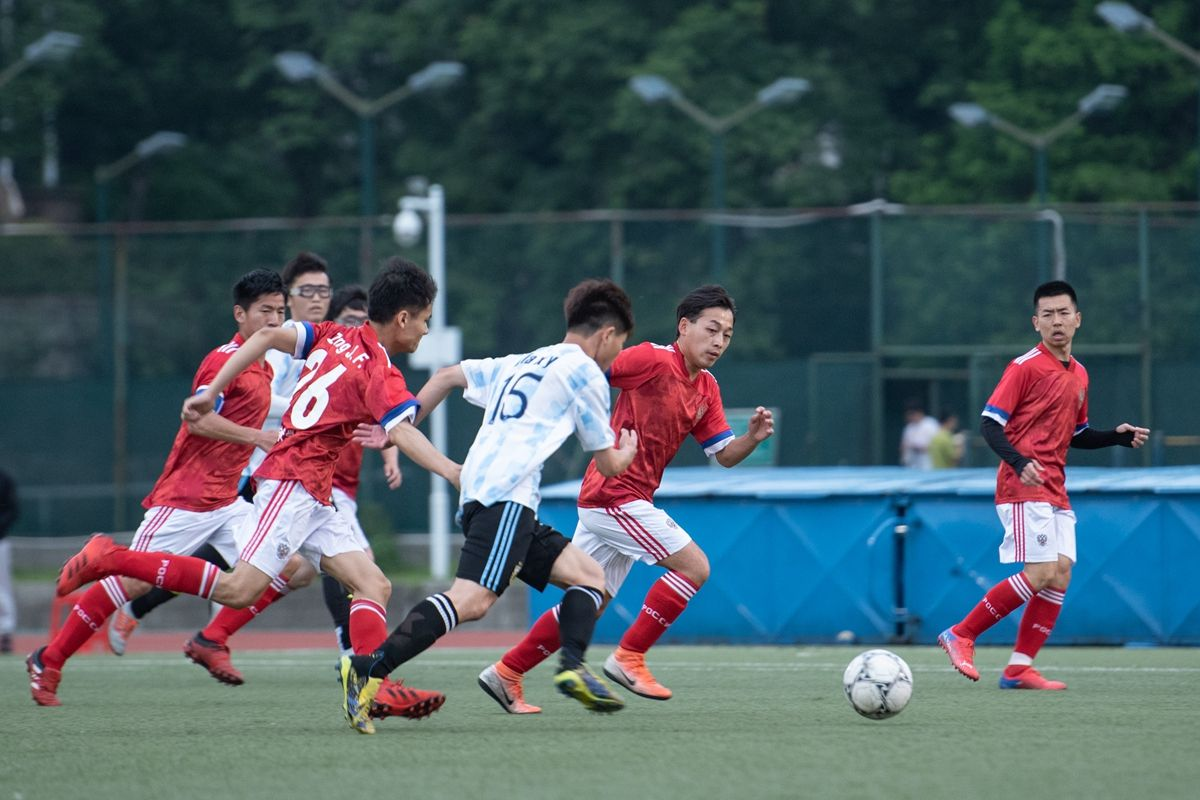football: (843, 649, 916, 722)
